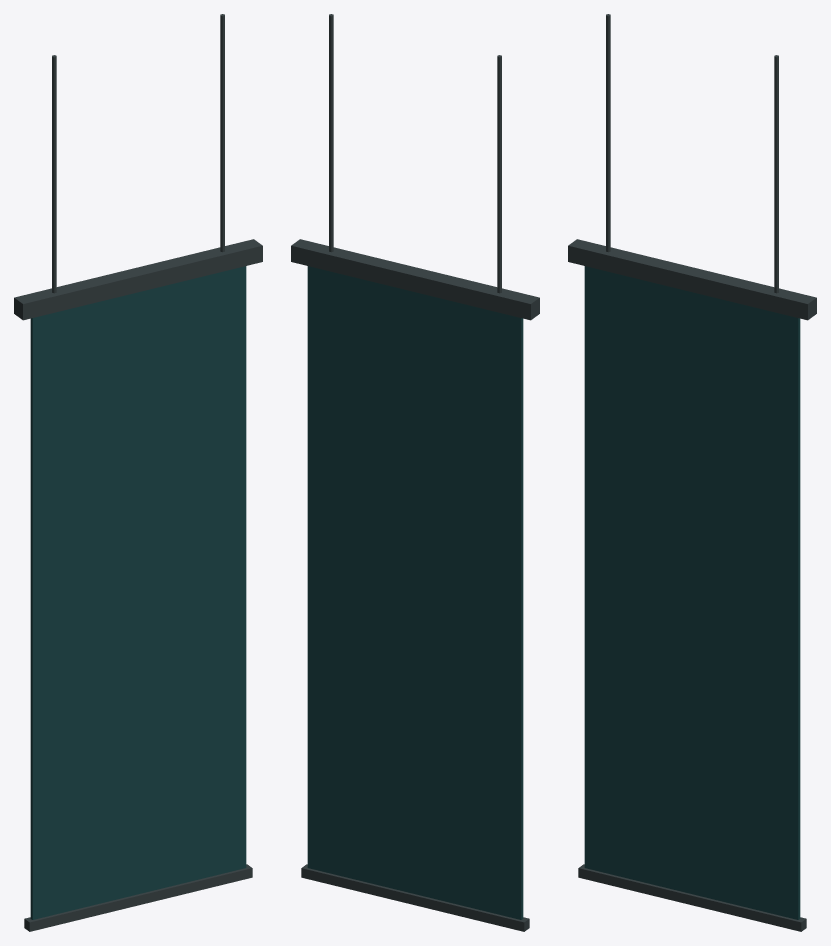
File: banner.obj
The picture shows the model from 3 angles, left to right: view 1: azimuth 30°, elevation 25°; view 2: azimuth 150°, elevation 25°; view 3: azimuth 330°, elevation 25°; orthographic projection.
Parts seen in each view (by area): view 1: cloth_blank, top_crossbar, bottom_hem, ceiling_suspension; view 2: cloth_blank, top_crossbar, bottom_hem, ceiling_suspension; view 3: cloth_blank, top_crossbar, bottom_hem, ceiling_suspension.
Boxes of the visible parts, x1,y1,x2,y2 form: cloth_blank: (30, 266, 246, 919); top_crossbar: (14, 239, 262, 320); bottom_hem: (24, 864, 252, 931); ceiling_suspension: (52, 14, 224, 293); cloth_blank: (307, 266, 523, 919); top_crossbar: (291, 239, 539, 320); bottom_hem: (301, 864, 529, 931); ceiling_suspension: (329, 14, 501, 293); cloth_blank: (584, 266, 800, 919); top_crossbar: (568, 239, 816, 320); bottom_hem: (578, 864, 806, 931); ceiling_suspension: (606, 14, 778, 293).
Bounding box in the file's own units: 1.85 × 6.39 × 0.12.
